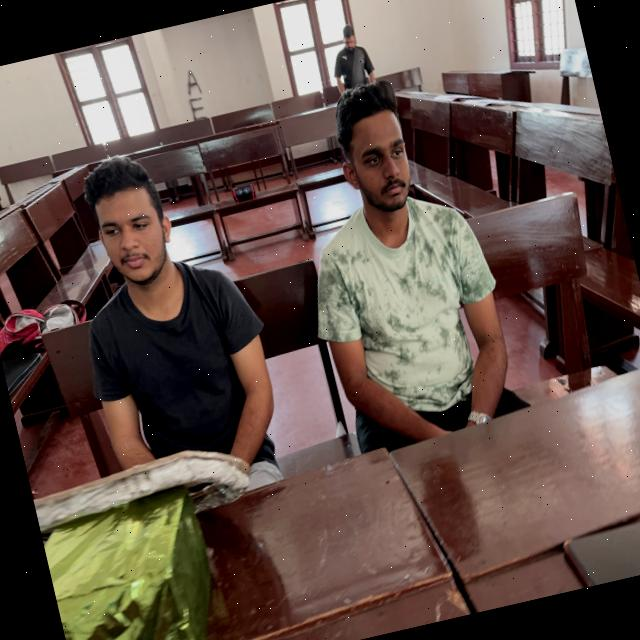no-seatbelt: (297, 184, 534, 478), (80, 260, 306, 540)
